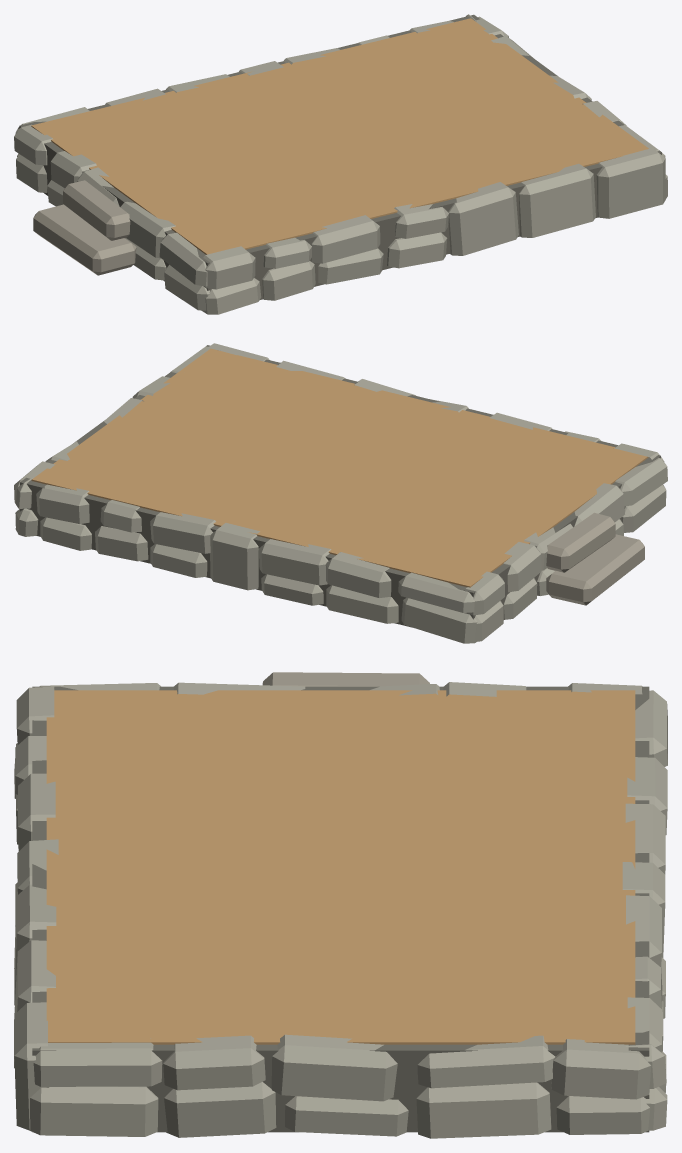
File: foundation.glb
3 renders of one model, top to bottom at view 1: azimuth 30°, elevation 25°; view 2: azimuth 150°, elevation 25°; view 3: azimuth 270°, elevation 25°, orthographic. The views are drawn at different scales.
Visible parts, largest first — view 1: floor, foundation_stones, door_step, foundation_core; view 2: floor, foundation_stones, door_step, foundation_core; view 3: floor, foundation_stones, foundation_core, door_step.
Part boxes in pixels (x1,y1,x2,y2): floor: [31, 18, 648, 254]; foundation_stones: [14, 14, 667, 314]; door_step: [33, 180, 136, 275]; foundation_core: [19, 14, 661, 299]; floor: [31, 348, 648, 587]; foundation_stones: [14, 343, 667, 643]; door_step: [546, 512, 644, 605]; foundation_core: [20, 345, 660, 627]; floor: [46, 690, 635, 1044]; foundation_stones: [14, 682, 667, 1138]; foundation_core: [32, 686, 649, 1132]; door_step: [262, 672, 429, 686].
Size of the model in its own units: 7.61 by 0.7705 by 5.09.
